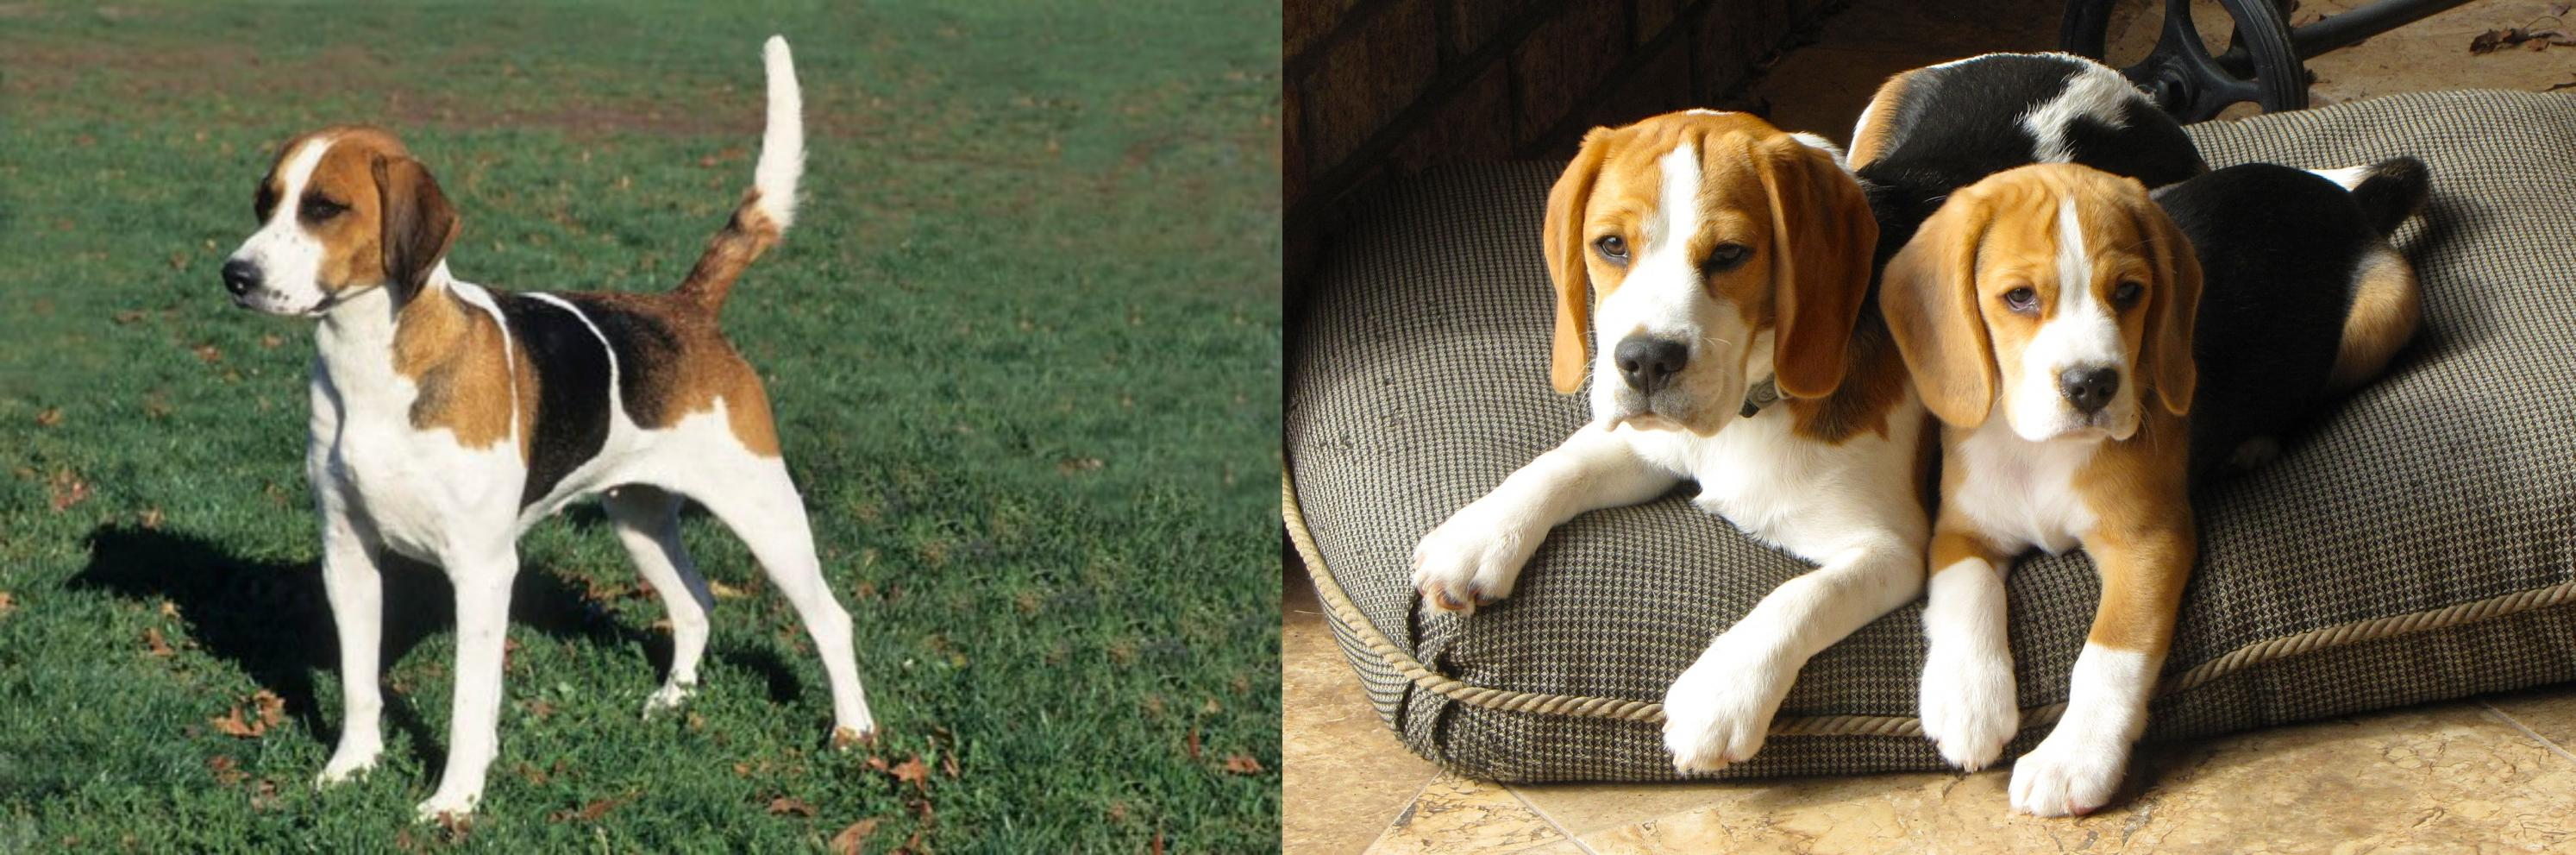dog: (1410, 64, 2175, 774), (217, 51, 918, 804), (1929, 89, 2495, 791)
